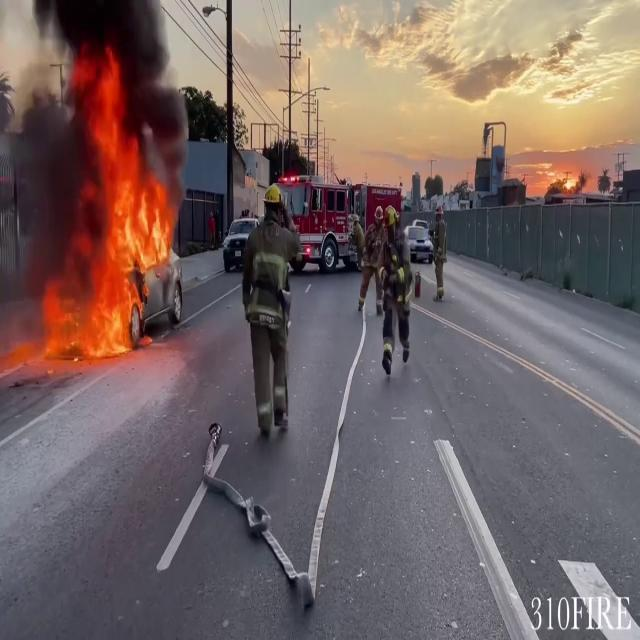Fire: (20, 62, 178, 368)
Smoke: (4, 0, 190, 168)
